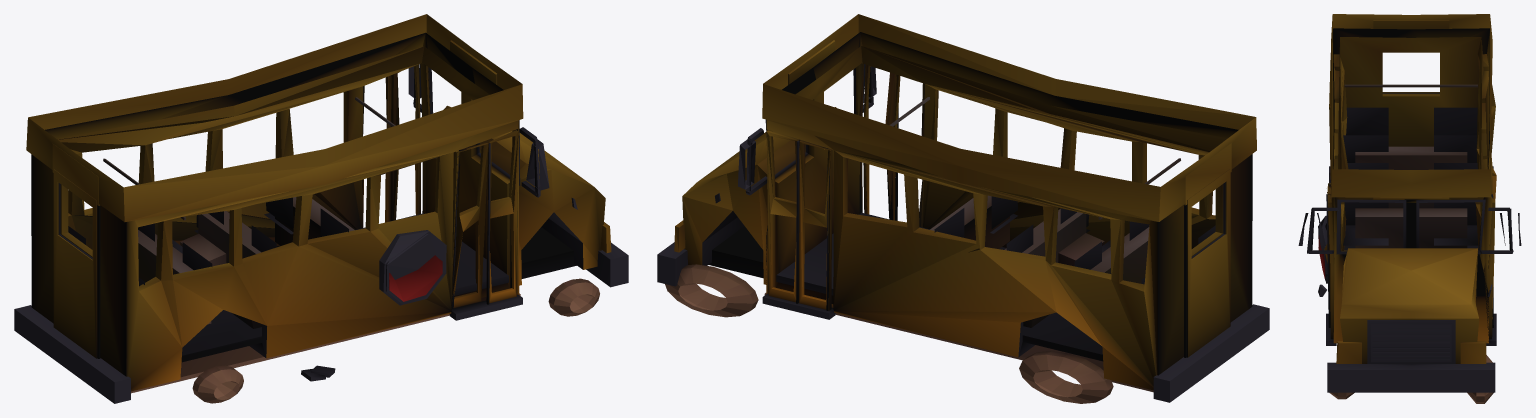
File: veh.school-bus.burned.lod2.glb
The picture shows the model from 3 angles, left to right: view 1: azimuth 30°, elevation 25°; view 2: azimuth 150°, elevation 25°; view 3: azimuth 270°, elevation 25°; orthographic projection. The views are drawn at different scales.
Visible parts, largest first — view 1: body, wheelFR, wheelRR; view 2: body, wheelRL, wheelFL; view 3: body, wheelFL.
Boxes of the visible parts, bbox=[...] form: body: bbox=[14, 14, 628, 403]; wheelFR: bbox=[548, 278, 599, 316]; wheelRR: bbox=[192, 365, 243, 403]; body: bbox=[657, 14, 1269, 402]; wheelRL: bbox=[1019, 351, 1113, 403]; wheelFL: bbox=[665, 264, 758, 317]; body: bbox=[1298, 14, 1521, 392]; wheelFL: bbox=[1467, 355, 1493, 403].
Bounding box in the file's own units: 7.49 × 3.46 × 3.43.
